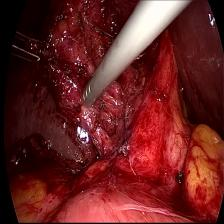Grasper: (9, 20, 48, 64)
Irrigator: (76, 69, 102, 114)
